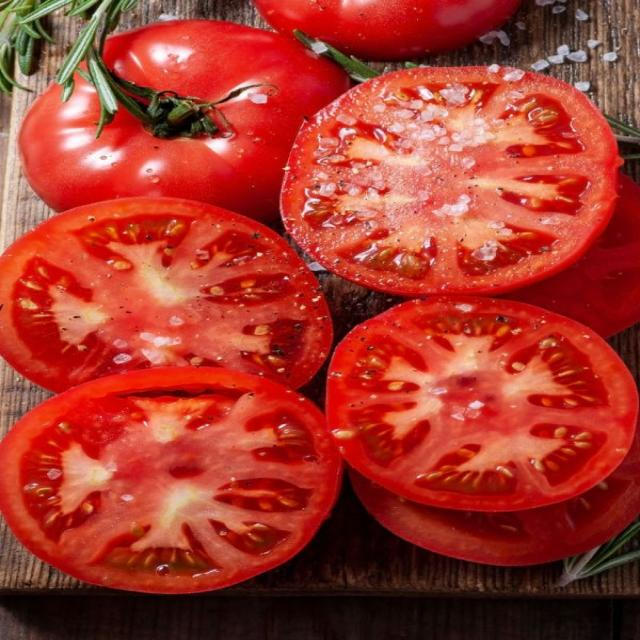sliced tomatoe: (282, 66, 618, 295), (0, 367, 340, 593), (328, 297, 637, 511), (0, 198, 331, 391), (351, 444, 639, 566), (508, 174, 639, 337)
tomato: (18, 21, 349, 221), (252, 0, 521, 60)
